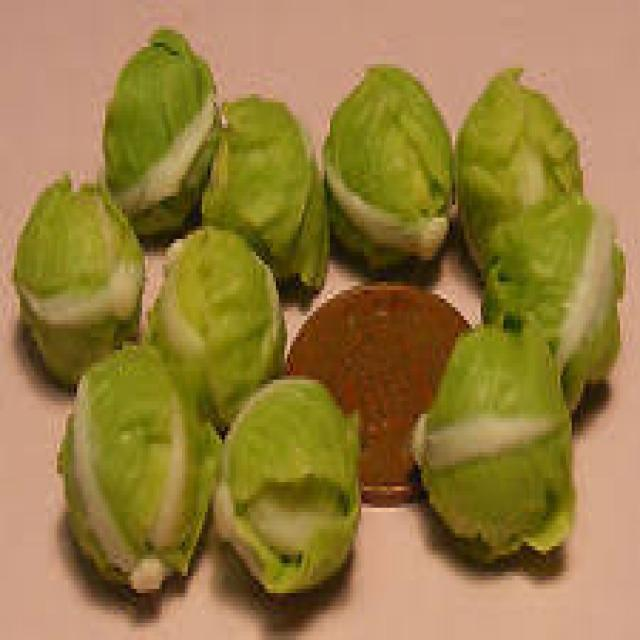organic waste: (54, 333, 222, 597), (406, 320, 572, 567), (210, 363, 362, 597), (449, 55, 586, 298), (481, 196, 623, 414), (137, 222, 290, 418), (9, 170, 142, 380), (319, 60, 452, 269), (199, 85, 327, 290), (97, 17, 213, 226)
